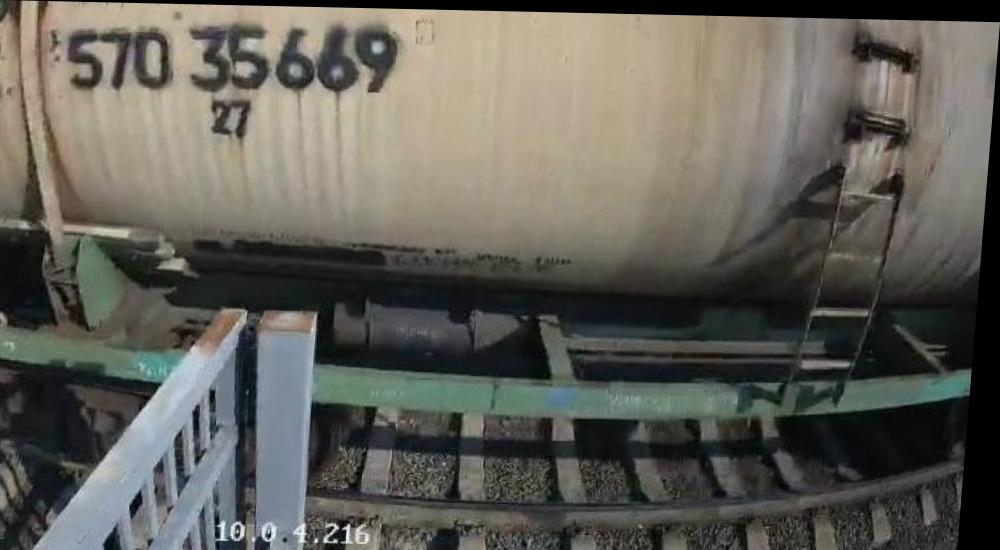Wagon-number: (63, 18, 407, 100)
